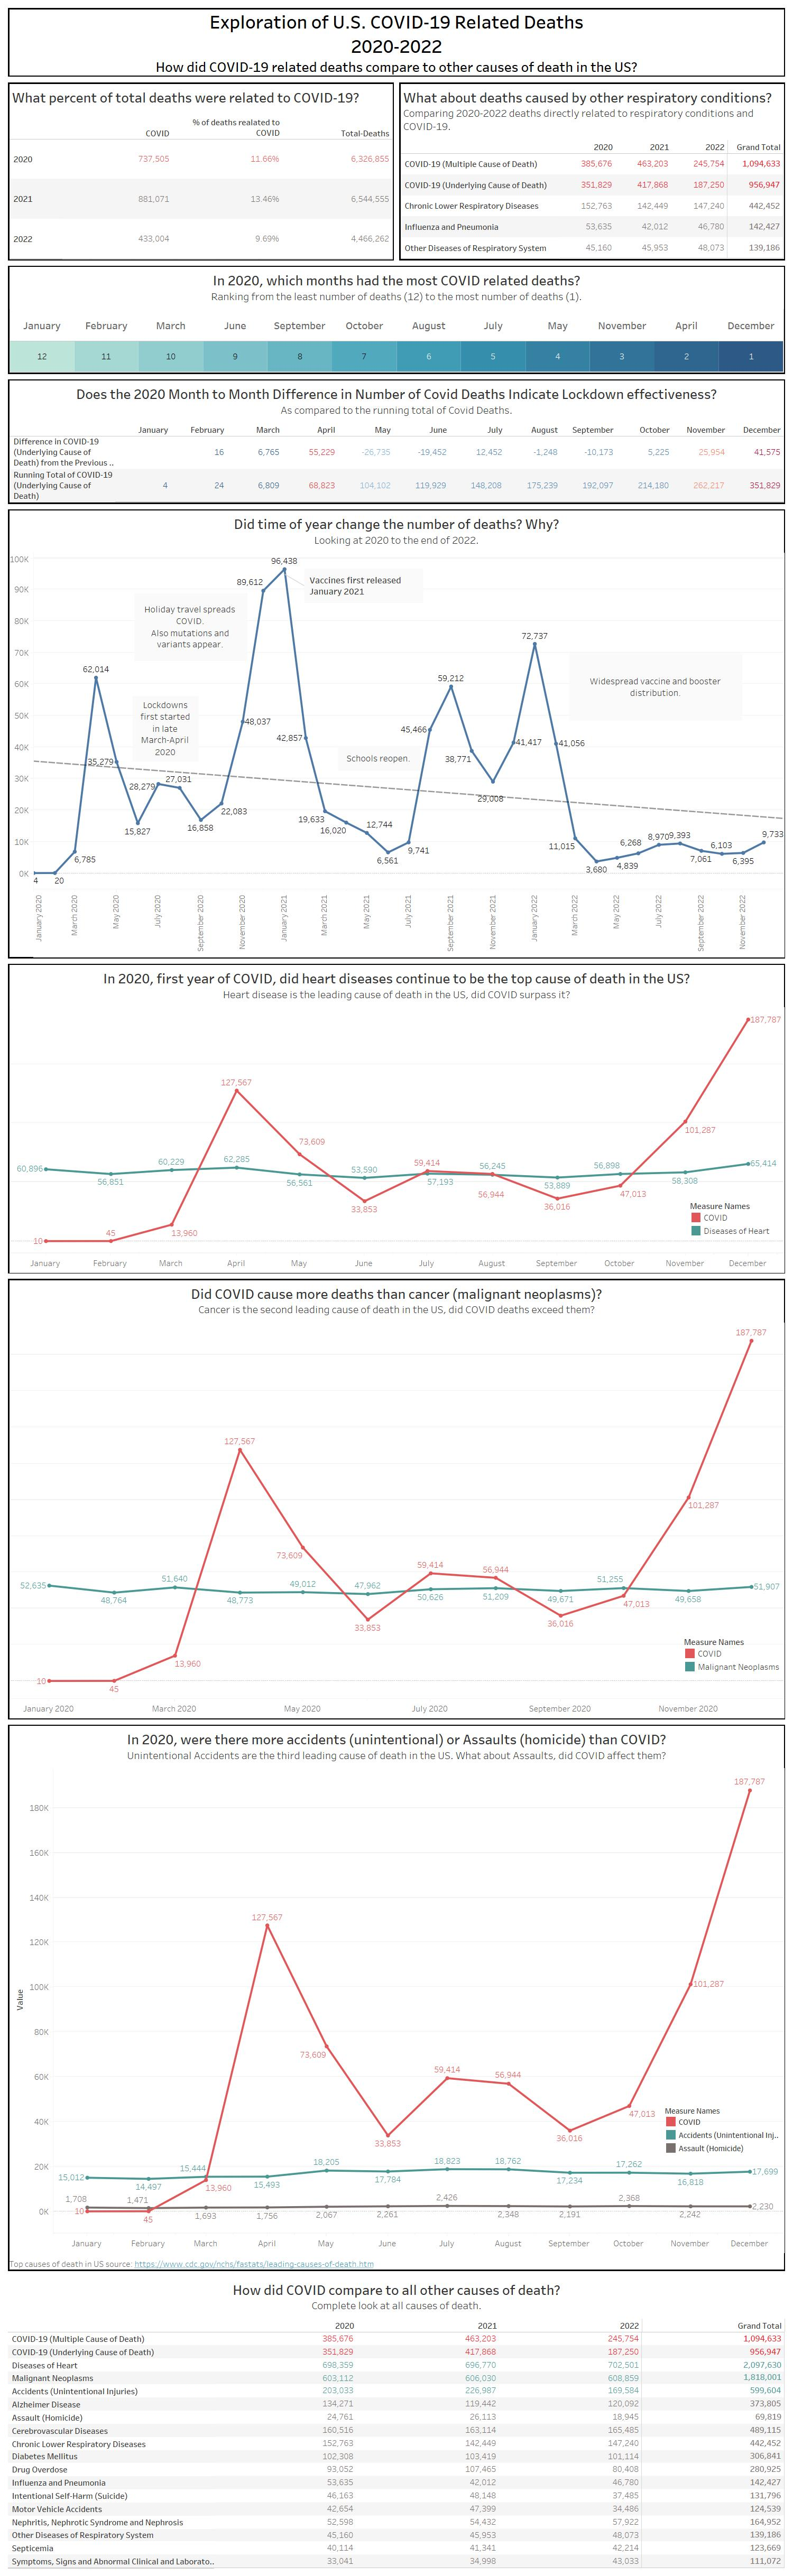

The dashboard page shown, as its layout file describes it:
{"tool":"tableau","page":{"name":"COVIDDash","canvas":[1200,3900],"ordinal":0},"visuals":[{"type":"text","box":[8,8,1184,112.5]},{"type":"worksheet","title":"COVID%","mark":"Automatic","rows":["End Date"],"box":[8,120.5,592,277.4]},{"type":"worksheet","title":"Respiratory","mark":"Automatic","cols":["End Date"],"box":[600,120.5,592,277.4]},{"type":"worksheet","title":"rank2020","mark":"Square","cols":["End Date","End Date"],"box":[8,397.9,1184,172.5]},{"type":"worksheet","title":"2020monthdifference","mark":"Automatic","cols":["End Date"],"box":[8,570.4,1184,196.6]},{"type":"worksheet","title":"COVID","mark":"Automatic","rows":["COVID-19 (Underlying Cause of Death)"],"cols":["End Date"],"box":[8,766.9,1184,687.7]},{"type":"worksheet","title":"Heart2020","mark":"Automatic","cols":["End Date"],"box":[8,1454.6,1184,477.6]},{"type":"legend","title":"Heart2020","param":"[federated.1si86ot1mqxdz410hac4n03pwijr].[:Measure Names]","box":[1043,1815,140,65]},{"type":"worksheet","title":"Cancer2020","mark":"Automatic","cols":["End Date"],"box":[8,1932.2,1184,674.9]},{"type":"legend","title":"Cancer2020","param":"[federated.1si86ot1mqxdz410hac4n03pwijr].[:Measure Names]","box":[1034,2475,150,64]},{"type":"worksheet","title":"Accidents(un)2020","mark":"Automatic","cols":["End Date"],"box":[8,2607,1184,835]},{"type":"legend","title":"Accidents(un)2020","param":"[federated.1si86ot1mqxdz410hac4n03pwijr].[:Measure Names]","box":[1005,3186,176,89]},{"type":"worksheet","title":"all","mark":"Automatic","cols":["End Date"],"box":[8,3442,1184,450]}]}

Visuals, with their boxes in screenshot pixels (x1, y1, x2, y2), scaled from the page's 1200x3900 canvas onto the 793x2576 screenshot:
text: locate(5, 5, 788, 80)
"COVID%" worksheet: locate(5, 80, 396, 263)
"Respiratory" worksheet: locate(396, 80, 788, 263)
"rank2020" worksheet (Square marks): locate(5, 263, 788, 377)
"2020monthdifference" worksheet: locate(5, 377, 788, 507)
"COVID" worksheet: locate(5, 507, 788, 961)
"Heart2020" worksheet: locate(5, 961, 788, 1276)
"Heart2020" legend: locate(689, 1199, 782, 1242)
"Cancer2020" worksheet: locate(5, 1276, 788, 1722)
"Cancer2020" legend: locate(683, 1635, 782, 1677)
"Accidents(un)2020" worksheet: locate(5, 1722, 788, 2273)
"Accidents(un)2020" legend: locate(664, 2104, 780, 2163)
"all" worksheet: locate(5, 2273, 788, 2571)
